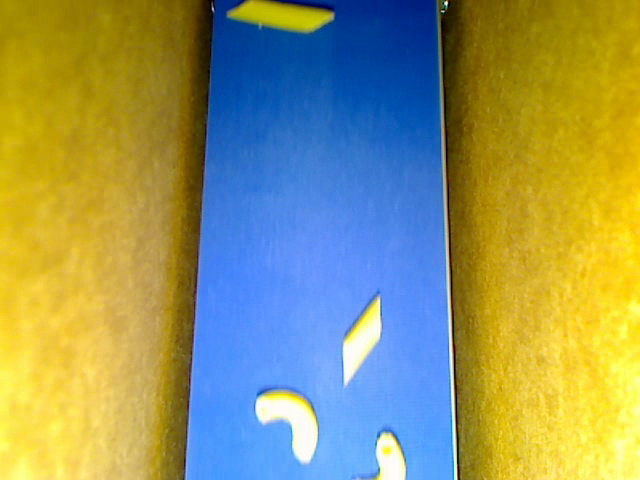elbow: (255, 389, 318, 463), (354, 431, 406, 479)
penne: (225, 1, 334, 37), (341, 293, 381, 386)
